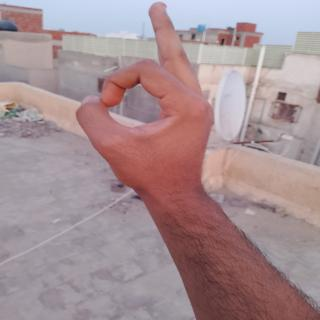Space: (73, 0, 225, 208)
